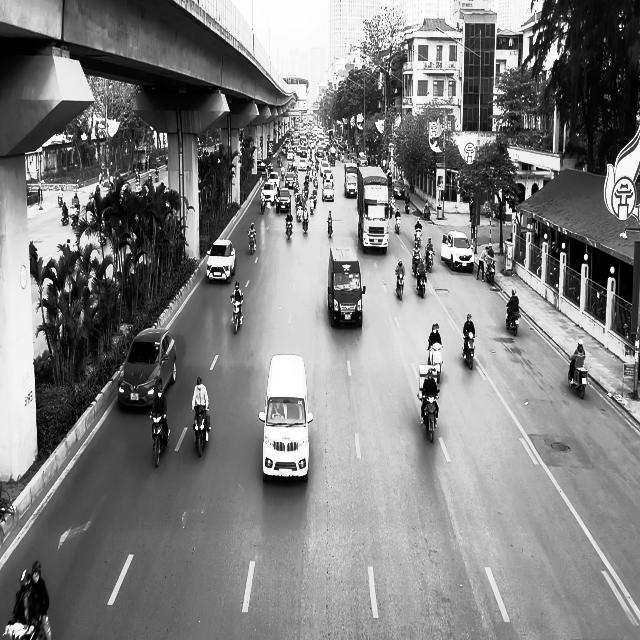bus: (357, 165, 390, 254)
car: (259, 354, 313, 482), (118, 326, 177, 409), (441, 230, 474, 272), (206, 238, 236, 282), (276, 188, 291, 213), (322, 182, 335, 201), (393, 180, 405, 198)
motorbike: (150, 411, 170, 467), (420, 389, 440, 443), (193, 405, 211, 457), (568, 354, 588, 399), (428, 343, 443, 383), (462, 332, 477, 370), (231, 294, 244, 334), (506, 308, 520, 336), (416, 270, 427, 298), (486, 258, 496, 284), (396, 271, 404, 300), (426, 249, 435, 272), (412, 253, 421, 276), (248, 232, 256, 254), (286, 216, 293, 239), (61, 205, 69, 225), (302, 210, 309, 232), (327, 218, 333, 238), (395, 214, 401, 234), (260, 196, 266, 213)
truck: (327, 246, 366, 328)
